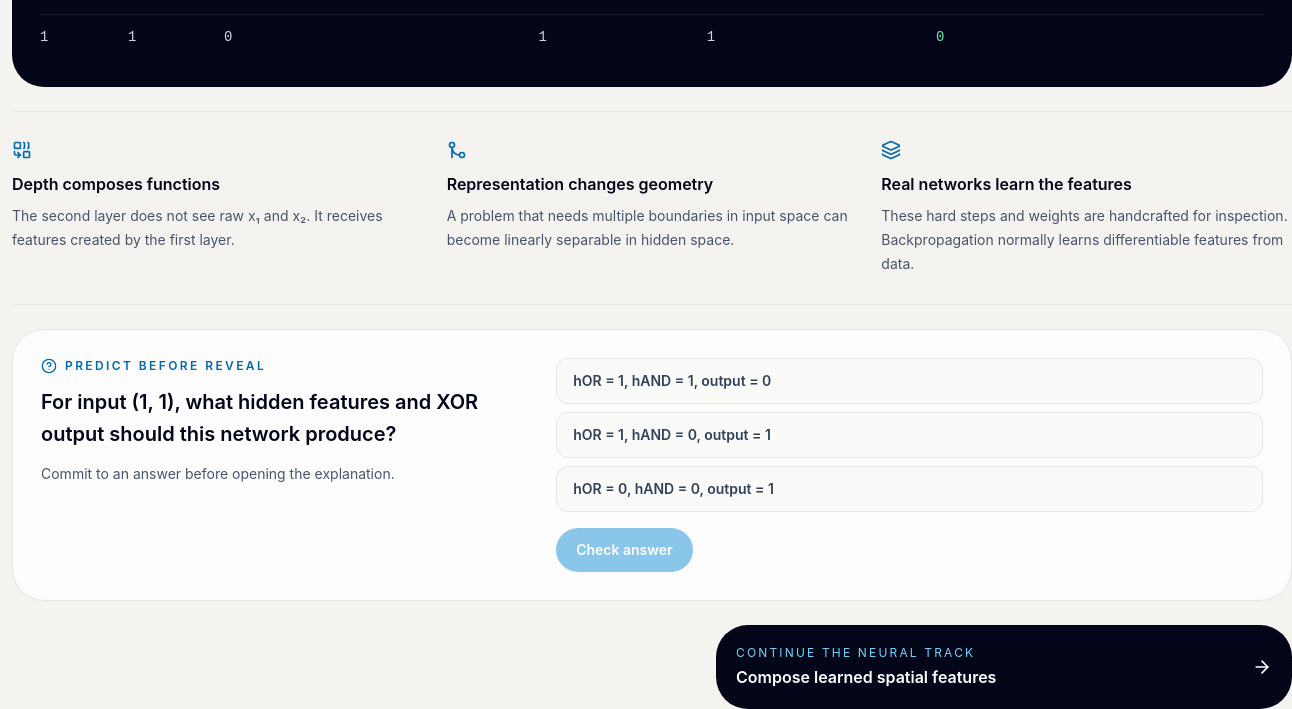
Scenario: DepthLabPage › includes a prediction checkpoint and next practical handoff
(page scrolled)
Click the button with test id "depth-xor-choice-110": (672, 381) x1=556 y1=358 x2=1263 y2=404
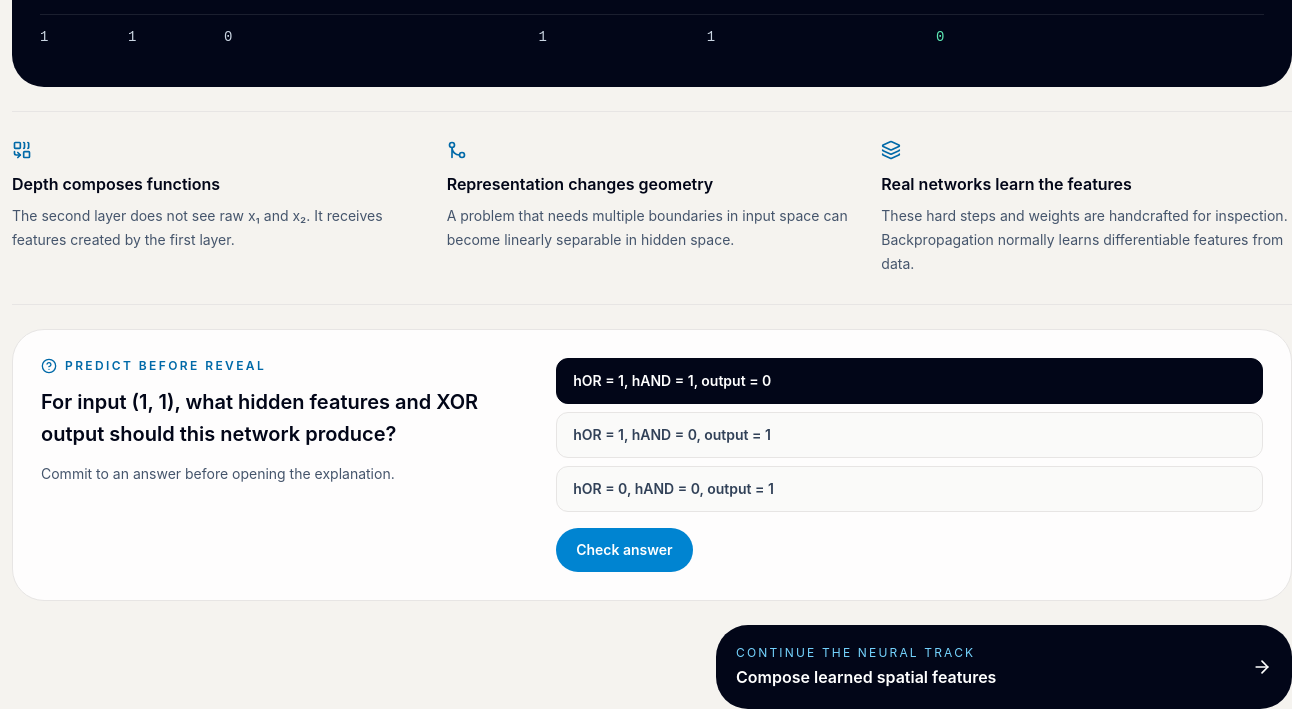
Click the button with test id "depth-xor-check": (624, 550) x1=556 y1=528 x2=693 y2=572
(page scrolled)
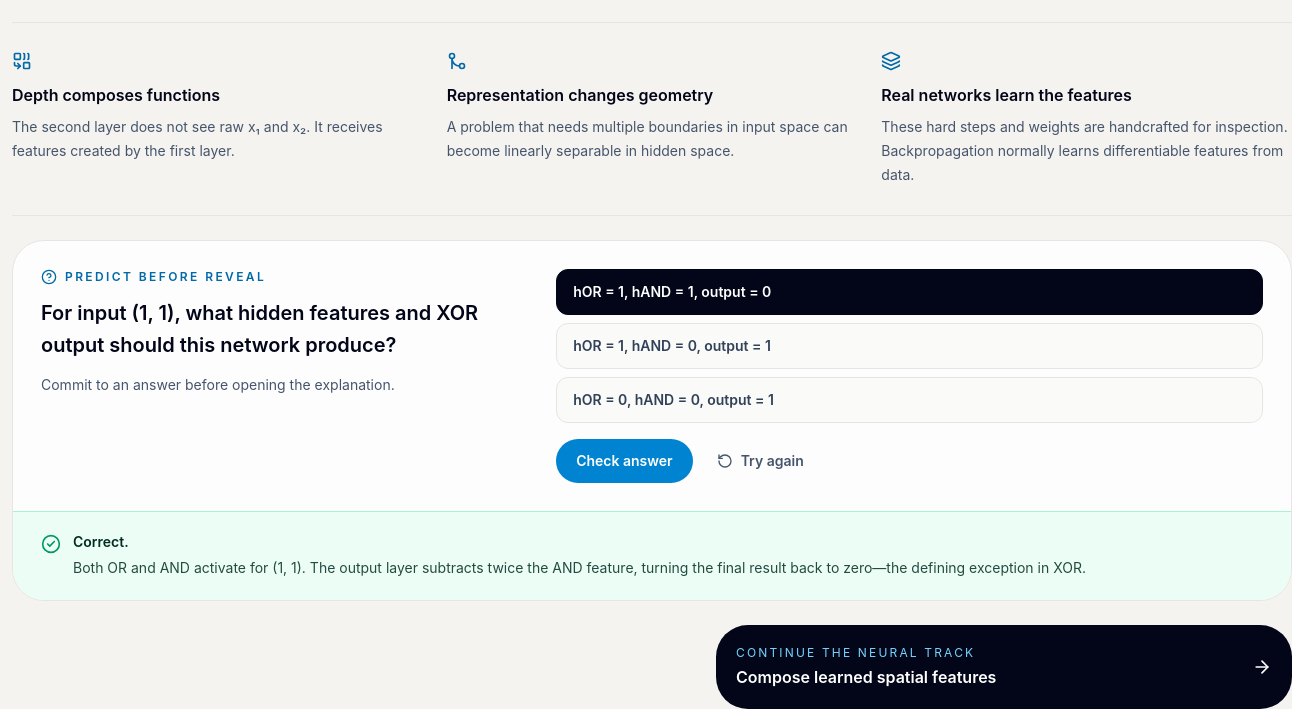
Check: the message with test id "depth-xor-feedback" shows "Correct", box x1=73 y1=533 x2=129 y2=550
